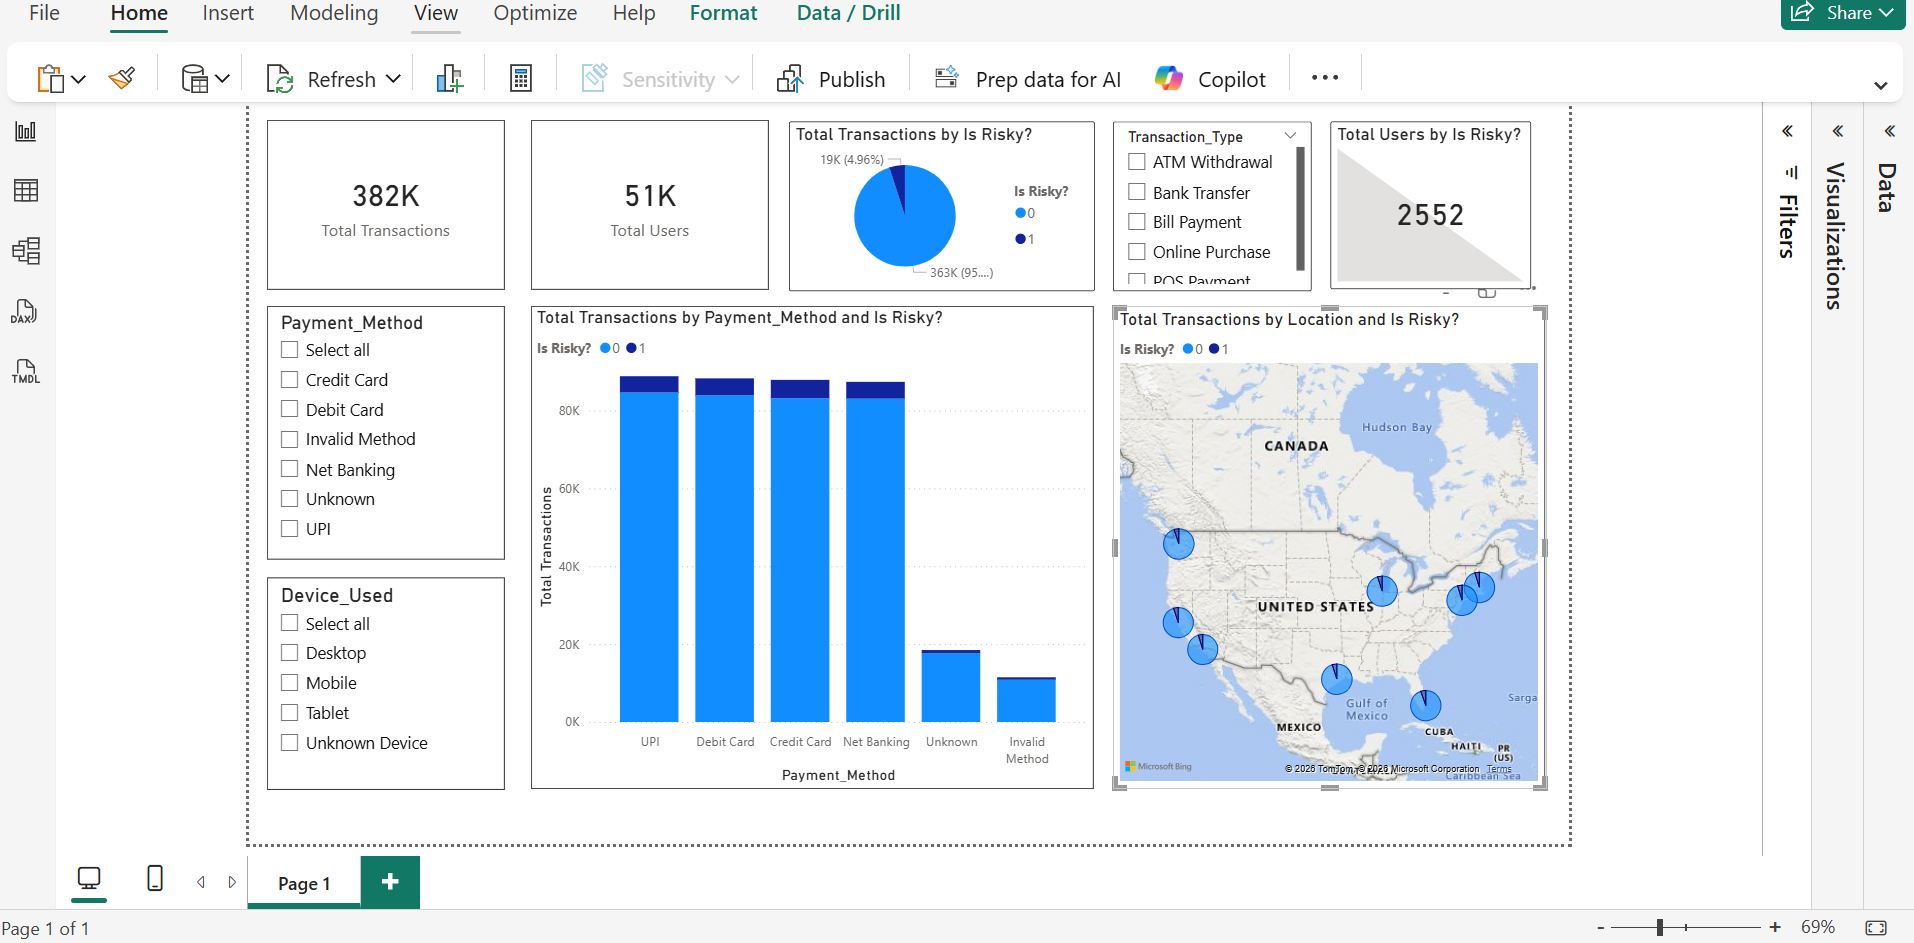

What the dashboard file says about the page in this screenshot:
{"tool":"powerbi","page":{"name":"Page 1","canvas":[1280,720],"ordinal":0},"visuals":[{"type":"card","fields":{"Values":["Fraud detection data.Total Transactions"]},"box":[17,17,230.6,164.4],"z":0},{"type":"card","fields":{"Values":["Fraud detection data.Total Users"]},"box":[274,17,230.6,164.4],"z":1000},{"type":"slicer","fields":{"Values":["Fraud detection data.Payment_Method"]},"box":[17,198.4,230.6,245.7],"z":2000},{"type":"slicer","fields":{"Values":["Fraud detection data.Device_Used"]},"box":[17,461.1,230.6,206],"z":3000},{"type":"columnChart","fields":{"Category":["Fraud detection data.Payment_Method"],"Series":["Fraud detection data.Is Risky?"],"Y":["Fraud detection data.Total Transactions"]},"box":[274,198.4,546.1,468.7],"z":4000},{"type":"map","fields":{"Category":["Fraud detection data.Location"],"Size":["Fraud detection data.Total Transactions"],"Series":["Fraud detection data.Is Risky?"]},"box":[839.1,198.4,419.5,468.7],"z":5000},{"type":"pieChart","fields":{"Y":["Fraud detection data.Total Transactions"],"Category":["Fraud detection data.Is Risky?"]},"box":[523.5,18.9,296.7,164.4],"z":6000},{"type":"slicer","fields":{"Values":["Fraud detection data.Transaction_Type"]},"box":[839.1,18.9,192.8,164.4],"z":7000},{"type":"kpi","fields":{"Indicator":["Fraud detection data.Total Users"],"TrendLine":["Fraud detection data.Is Risky?"]},"box":[1048.8,18.9,194.6,162.5],"z":8000}]}

Visuals, with their boxes on the page's 1280x720 design canvas (x1, y1, x2, y2). These are canvas units, not pixel positions in the 1914x943 screenshot, which may show the page scaled, cropped or inside an application window:
card - Fraud detection data.Total Transactions: box=[17, 17, 248, 181]
card - Fraud detection data.Total Users: box=[274, 17, 505, 181]
slicer - Fraud detection data.Payment_Method: box=[17, 198, 248, 444]
slicer - Fraud detection data.Device_Used: box=[17, 461, 248, 667]
columnChart - Fraud detection data.Payment_Method x Fraud detection data.Is Risky?: box=[274, 198, 820, 667]
map - Fraud detection data.Location x Fraud detection data.Total Transactions: box=[839, 198, 1259, 667]
pieChart - Fraud detection data.Total Transactions x Fraud detection data.Is Risky?: box=[524, 19, 820, 183]
slicer - Fraud detection data.Transaction_Type: box=[839, 19, 1032, 183]
kpi - Fraud detection data.Total Users x Fraud detection data.Is Risky?: box=[1049, 19, 1243, 181]
